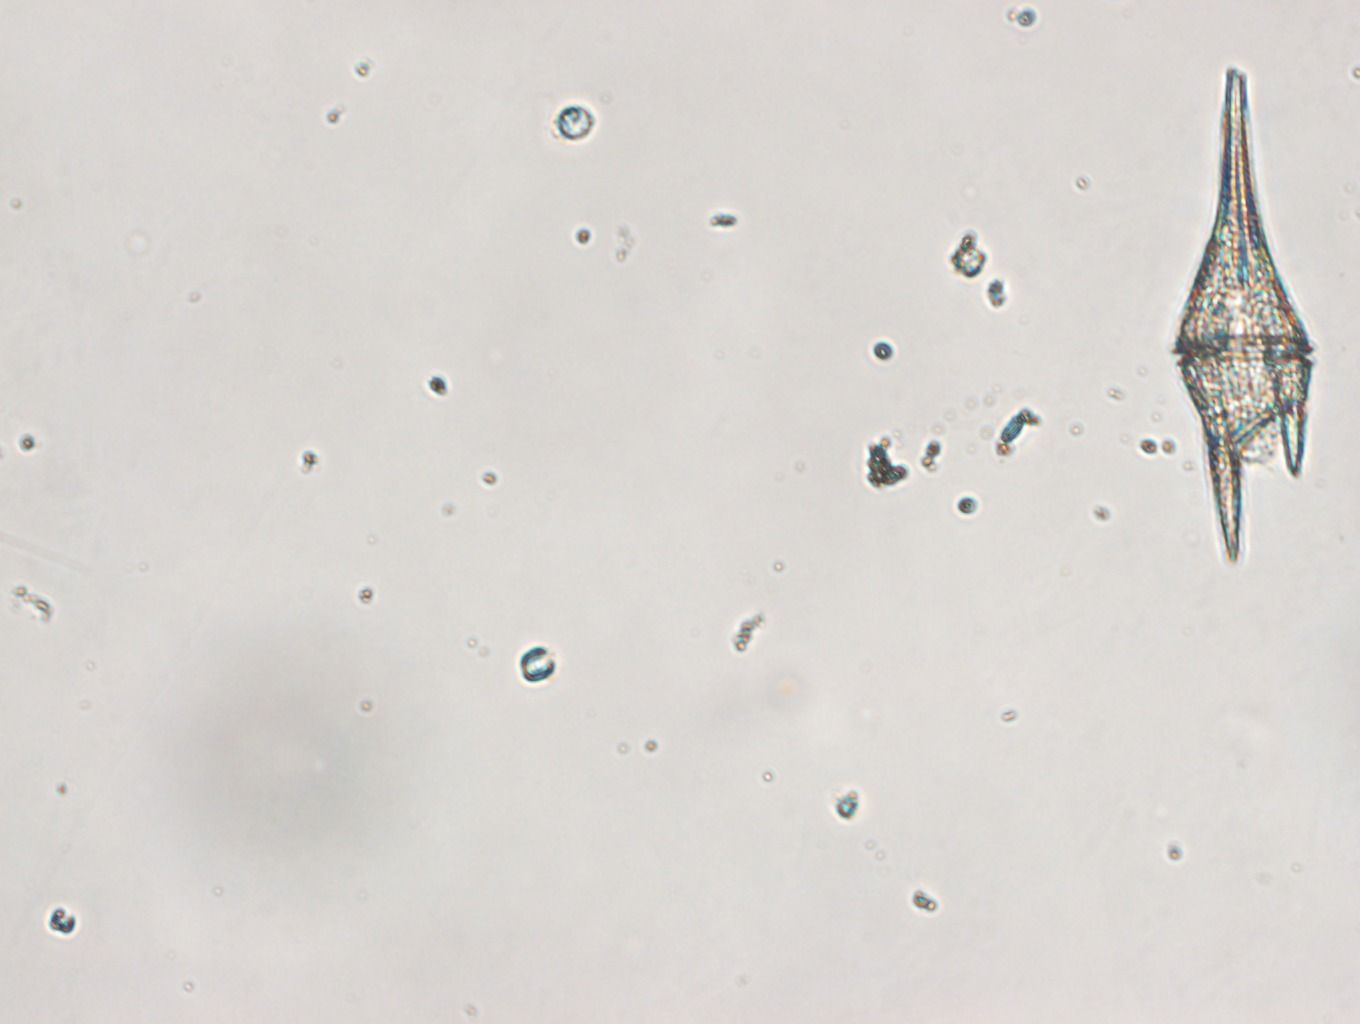ceratium furca: (1174, 65, 1309, 566)
